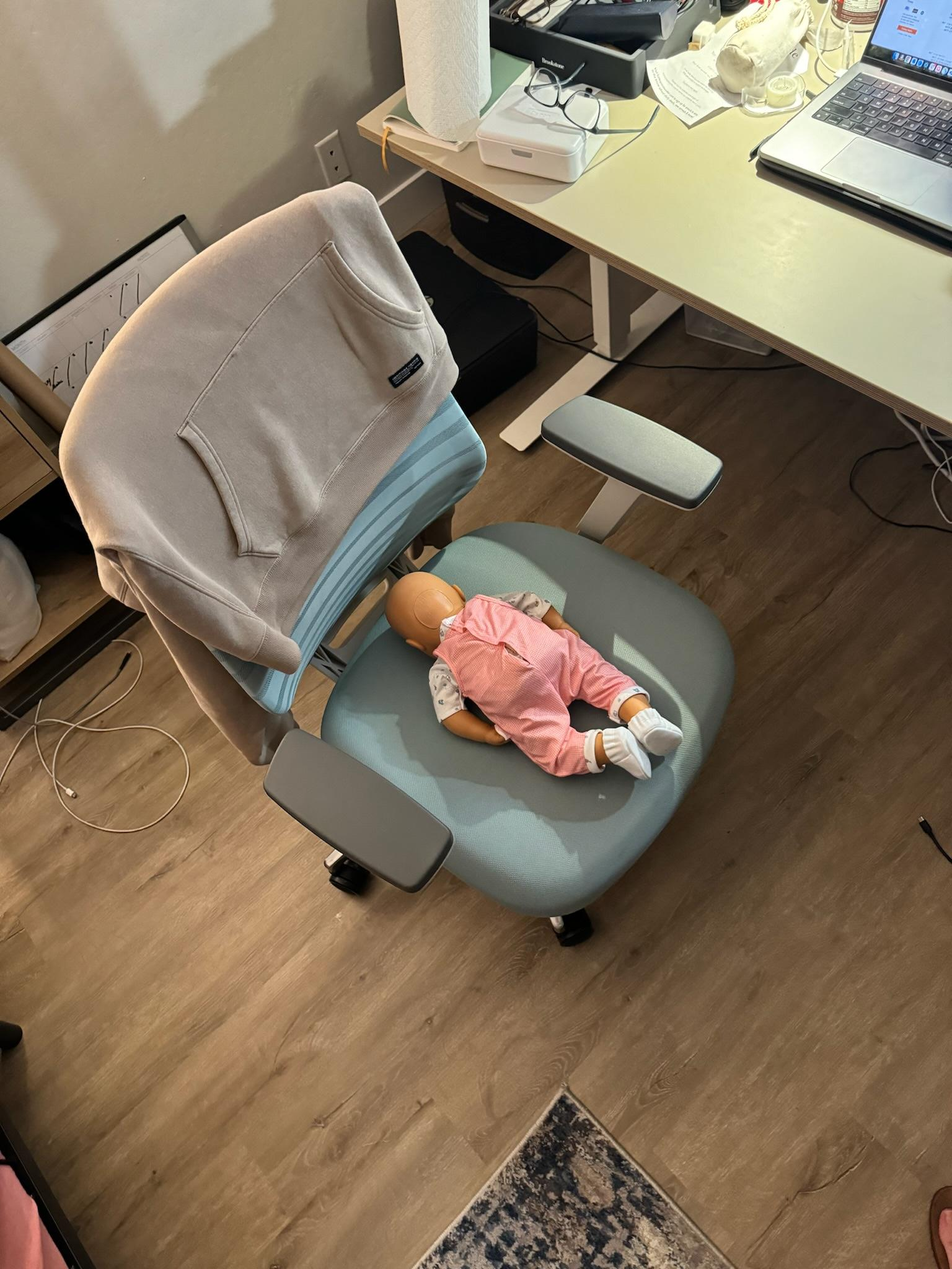baby: (368, 564, 700, 791)
